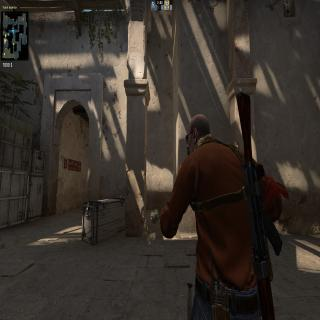T-Head: (186, 108, 212, 156)
